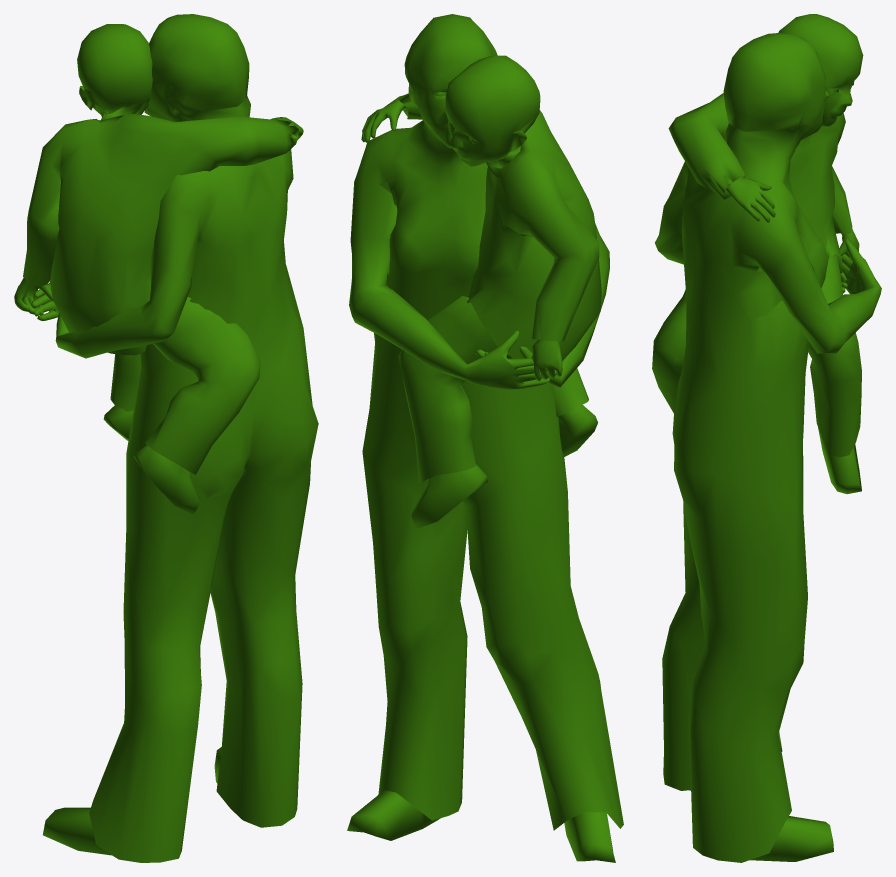
3 renders of one model, left to right at view 1: azimuth 30°, elevation 25°; view 2: azimuth 150°, elevation 25°; view 3: azimuth 270°, elevation 25°, orthographic. The views are drawn at different scales.
Parts seen in each view (by area): view 1: CBoy0003_Se; view 2: CBoy0003_Se; view 3: CBoy0003_Se.
Boxes of the visible parts, left/top/right/bottom form: CBoy0003_Se: left=14, top=14, right=318, bottom=862; CBoy0003_Se: left=347, top=14, right=623, bottom=862; CBoy0003_Se: left=652, top=14, right=881, bottom=862.
Size of the model in its own units: 14.35 by 43.1 by 11.38.
